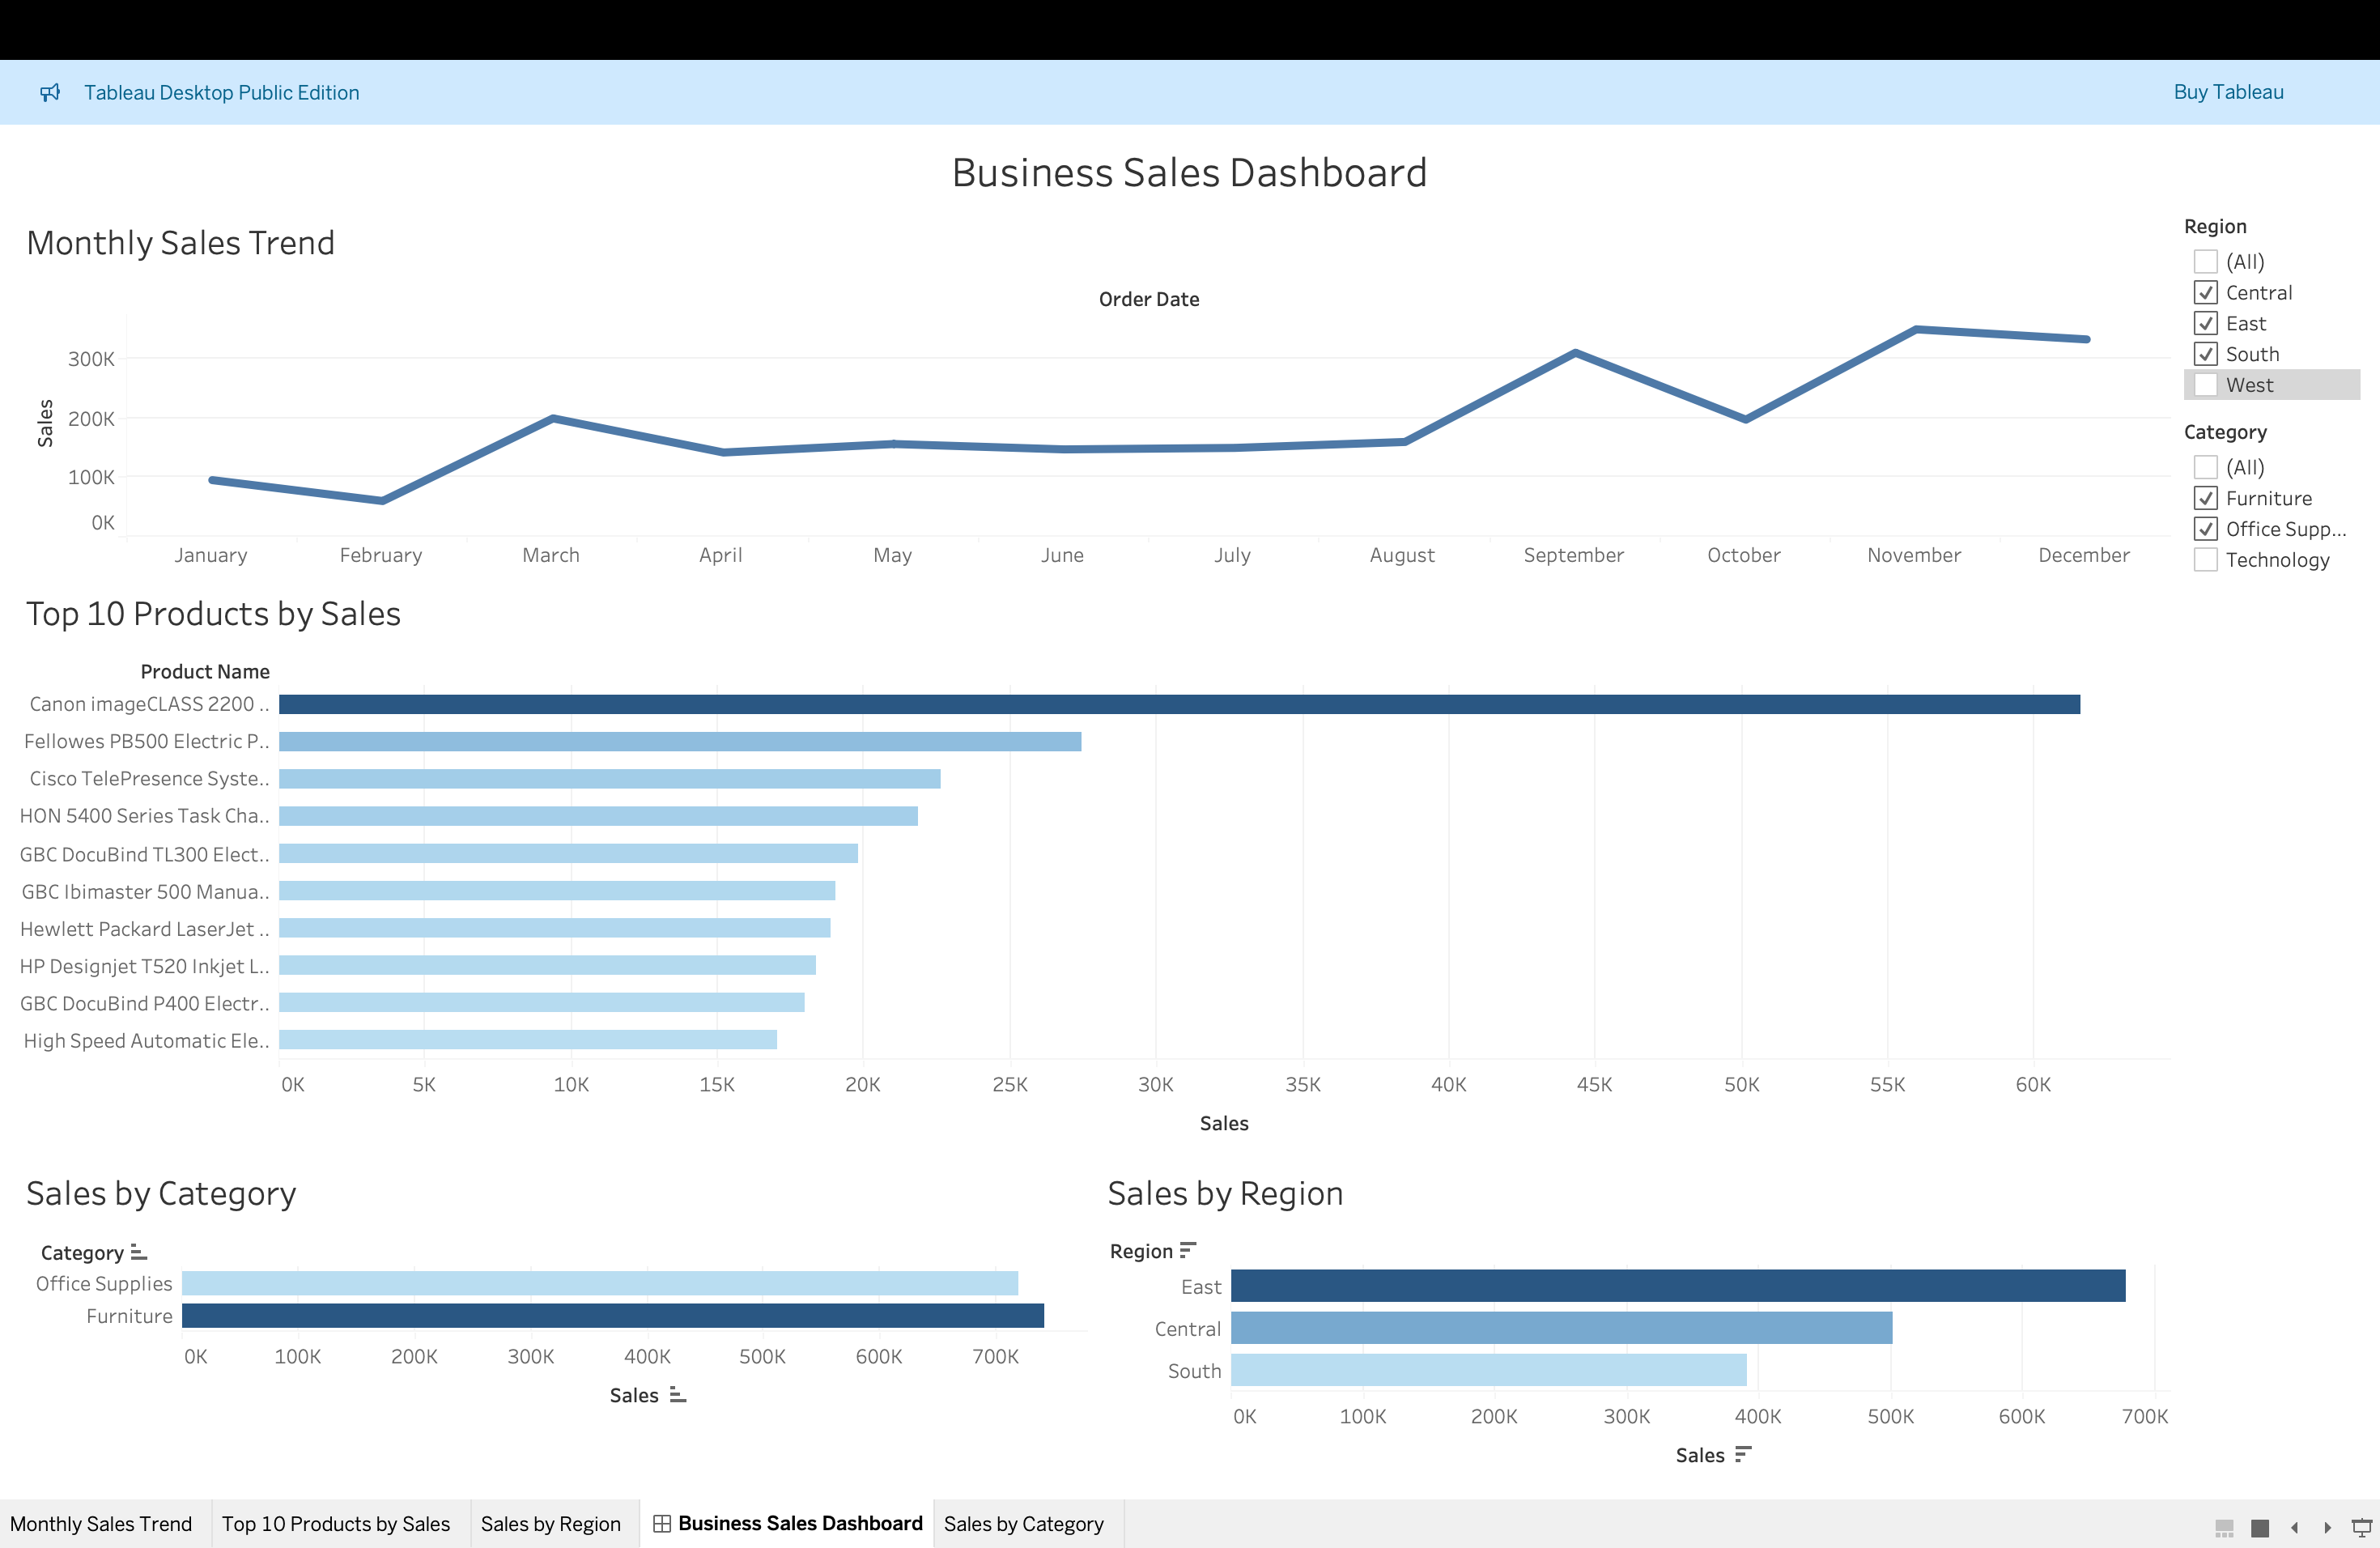

This screenshot's page, from the dashboard's own definition file:
{"tool":"tableau","page":{"name":"Business Sales Dashboard","canvas":[1000,1000],"units":"permille","ordinal":0},"visuals":[{"type":"title","box":[10.5,11.7,978.9,52.7]},{"type":"worksheet","title":"Monthly Sales Trend","mark":"Automatic","rows":["Sales"],"cols":["Order Date"],"box":[10.5,64.4,825,267.9]},{"type":"filter","title":"Sales by Region","param":"[federated.1ldnj430v75o6j10bnwn818czmzn].[none:Region:nk]","box":[835.5,64.4,154,185.9]},{"type":"filter","title":"Sales by Category","param":"[federated.1ldnj430v75o6j10bnwn818czmzn].[none:Category:nk]","box":[835.5,250.4,154,158.1]},{"type":"worksheet","title":"Top 10 Products by Sales","mark":"Automatic","rows":["Product Name"],"cols":["Sales"],"box":[10.5,332.3,825,417.3]},{"type":"worksheet","title":"Sales by Category","mark":"Automatic","rows":["Category"],"cols":["Sales"],"box":[10.5,749.6,412.3,238.7]},{"type":"worksheet","title":"Sales by Region","mark":"Bar","rows":["Region"],"cols":["Sales"],"box":[422.8,749.6,412.7,238.7]}]}

Visuals, with their boxes on the dashboard's canvas, which has no fixed pixel size, in thousandths of its width and height (x1, y1, x2, y2). These are canvas units, not pixel positions in the 2380x1548 screenshot, which may show the page scaled, cropped or inside an application window:
title: rect(10, 12, 989, 64)
"Monthly Sales Trend" worksheet: rect(10, 64, 836, 332)
"Sales by Region" filter: rect(836, 64, 990, 250)
"Sales by Category" filter: rect(836, 250, 990, 408)
"Top 10 Products by Sales" worksheet: rect(10, 332, 836, 750)
"Sales by Category" worksheet: rect(10, 750, 423, 988)
"Sales by Region" worksheet (Bar marks): rect(423, 750, 836, 988)
